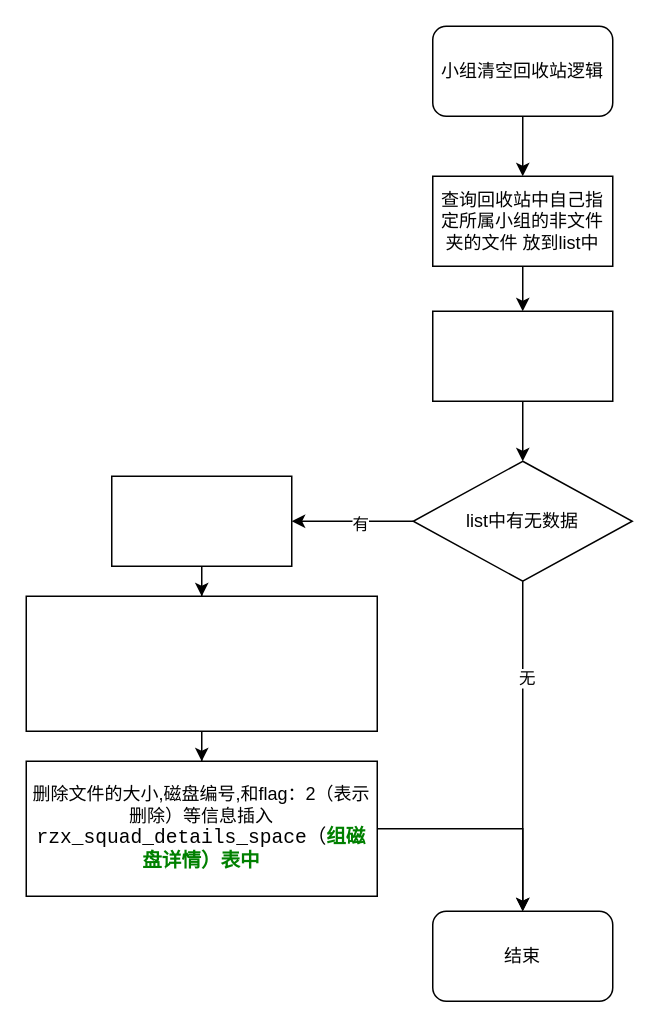
The diagram is 659 pixels wide and 1028 high, and some of its shapes have lost their labels. Here are the shapes that lost their labels. From the top down, the box of each, then its label:
(431, 310, 613, 401): 删除自己指定所属小组中的 flag = 2的信息
(110, 475, 292, 566): 循环list计算删除文件大小
(25, 595, 377, 731): 并把 verify 插入到 rzx_scavenging（ 文件检查清理 ）表中
